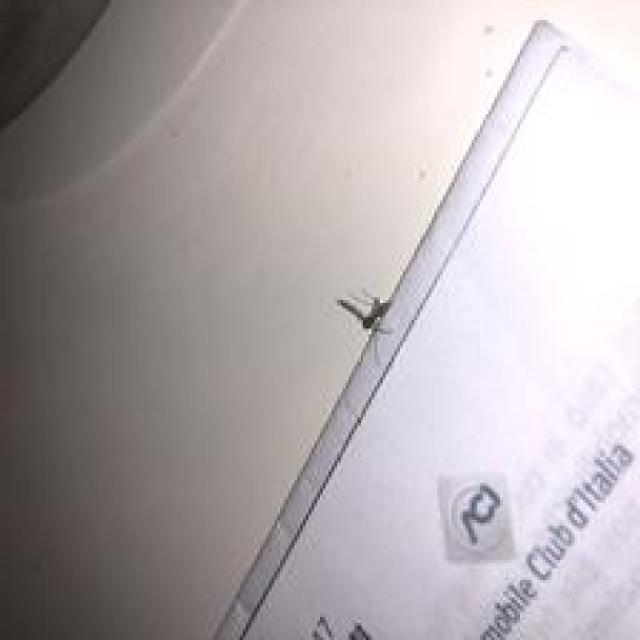Culex: (336, 289, 393, 337)
